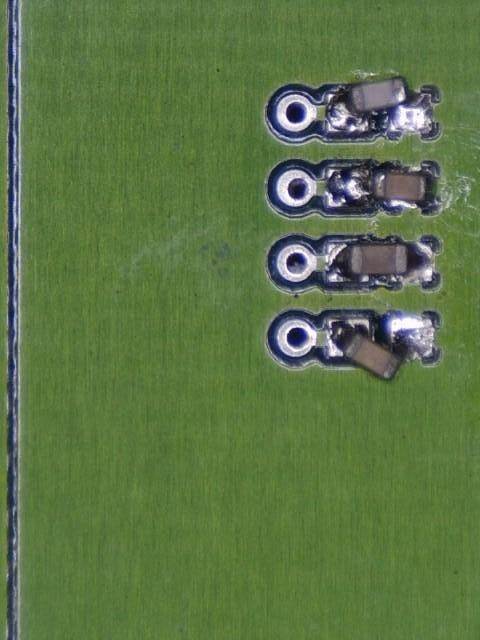pcb_defect: (327, 315, 435, 382), (326, 76, 432, 135), (324, 166, 432, 211), (324, 165, 432, 210)
